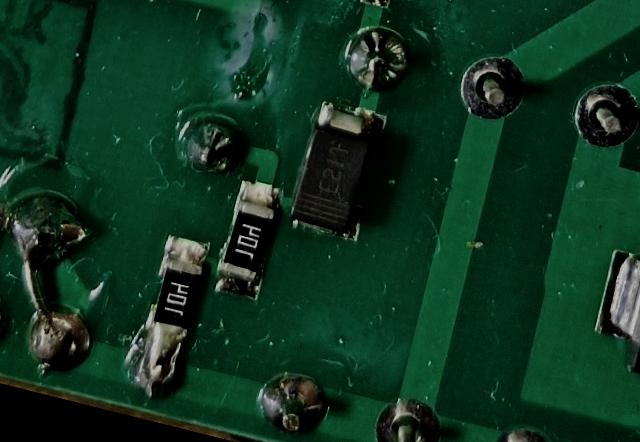chip-resistor: (134, 229, 214, 366), (207, 173, 286, 305)
diode: (281, 93, 392, 247)
